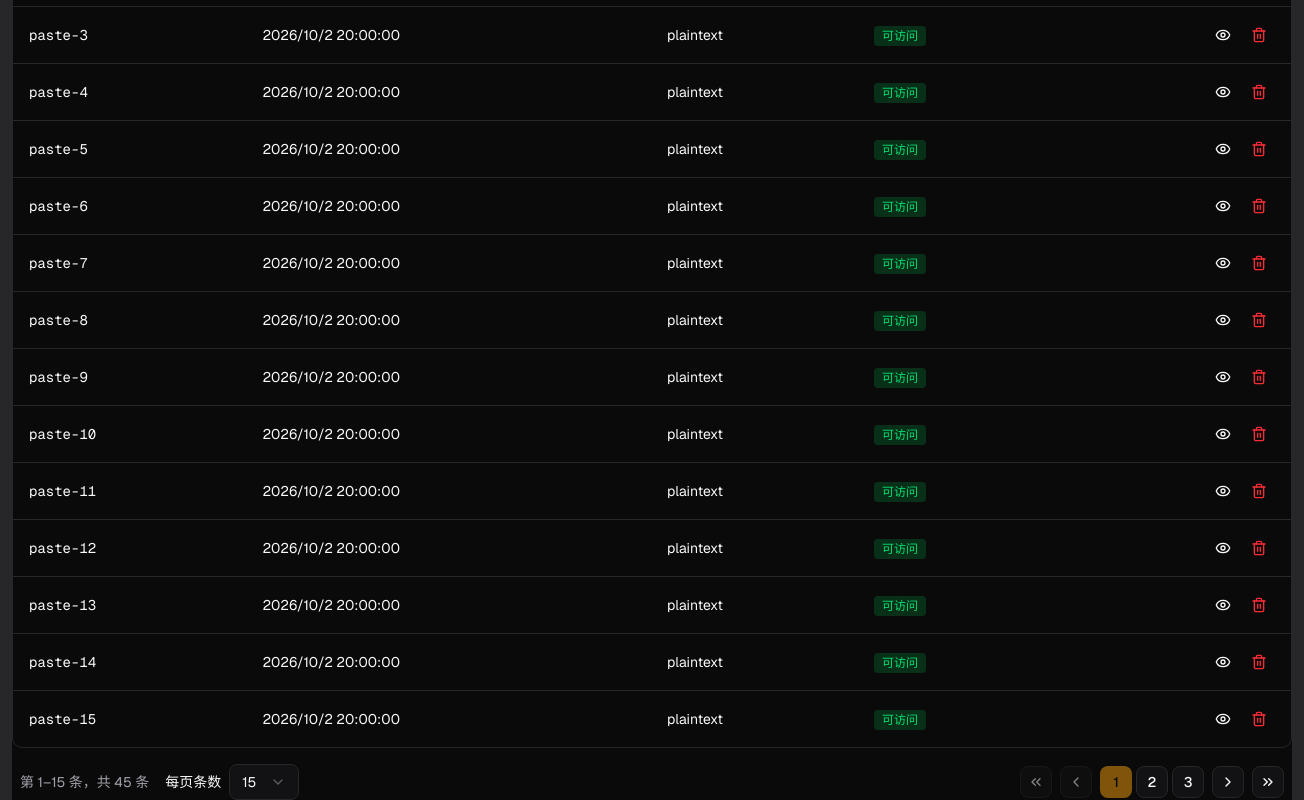
Scenario: PastesTable › 新页请求成功后，不让已取消的旧页响应覆盖它
(page scrolled)
Click the button named "第 2 页": (1152, 782) [1136,766,1168,798]
(page scrolled)
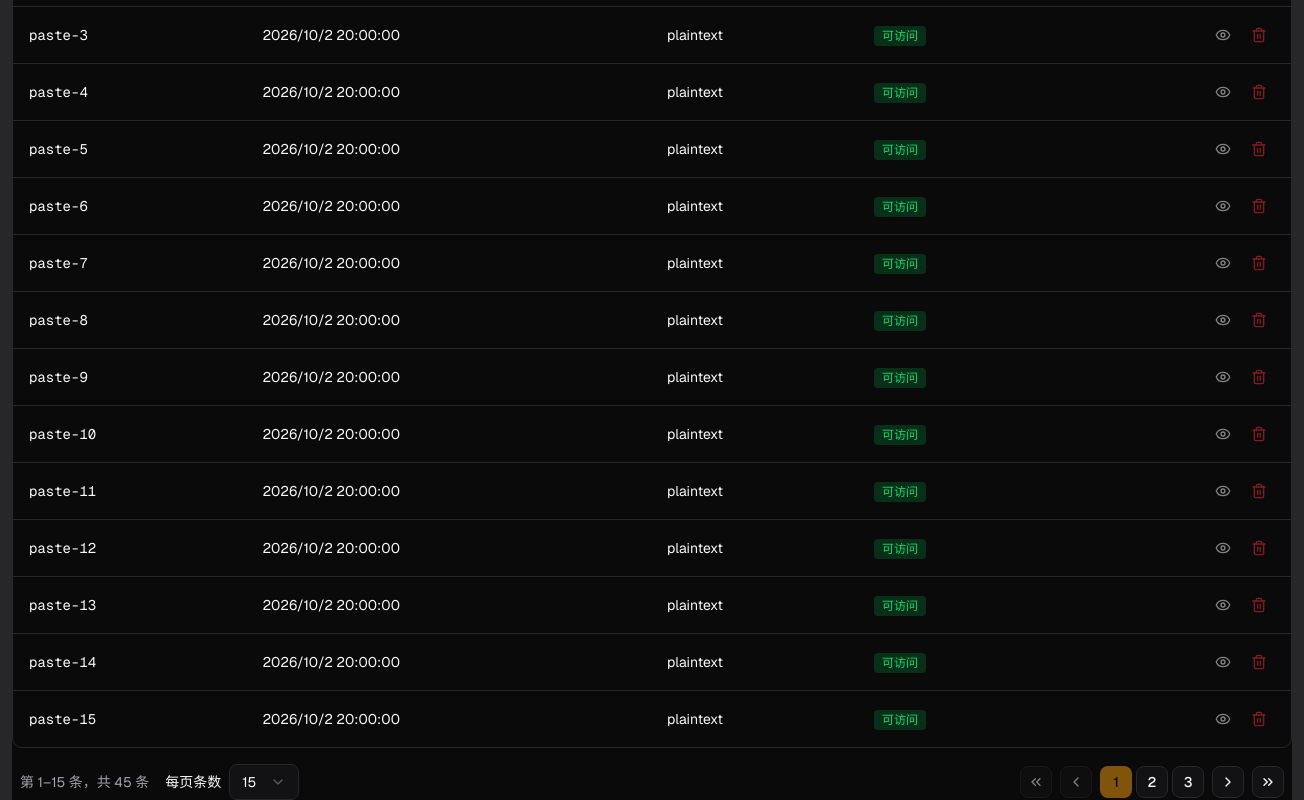
Click the button named "第 3 页": (1188, 782) [1172,766,1204,798]
(page scrolled)
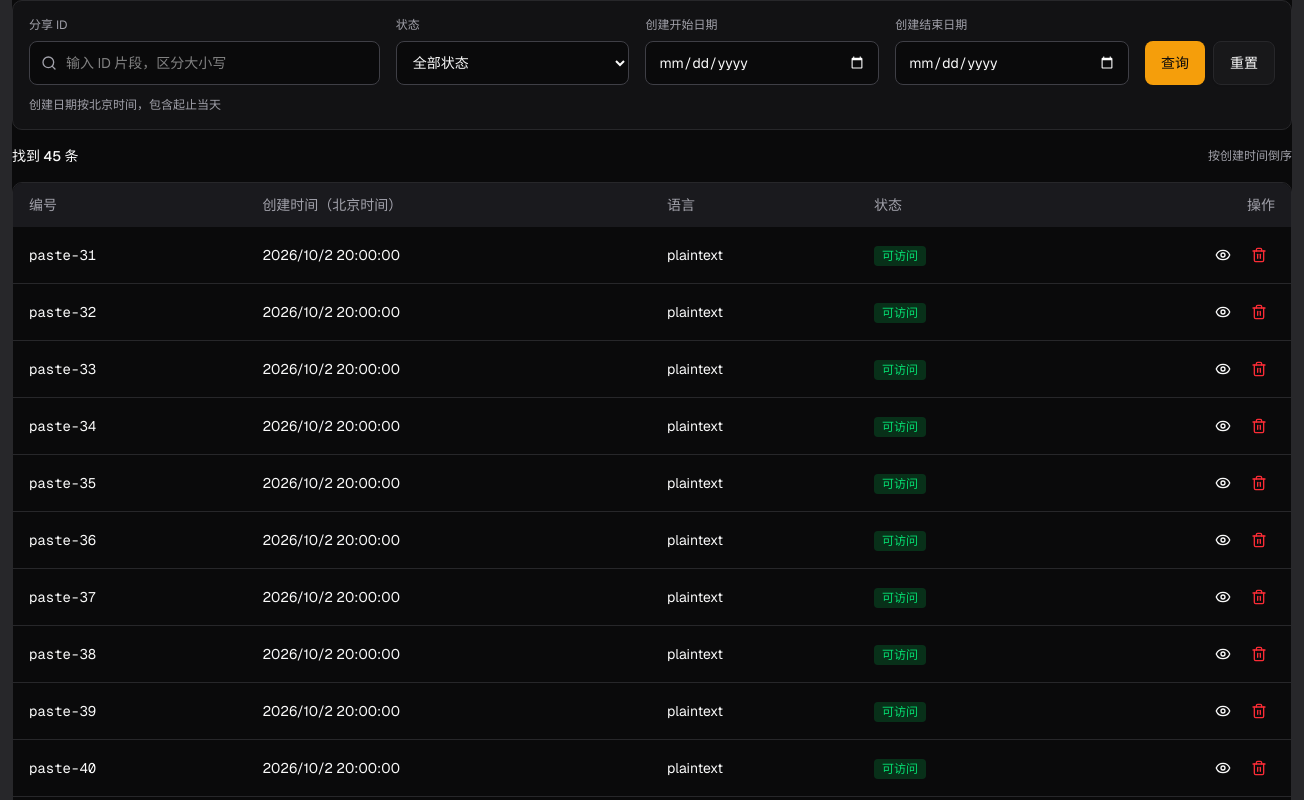
Expected: the text "paste-31" is shown, [29,246,96,264]
